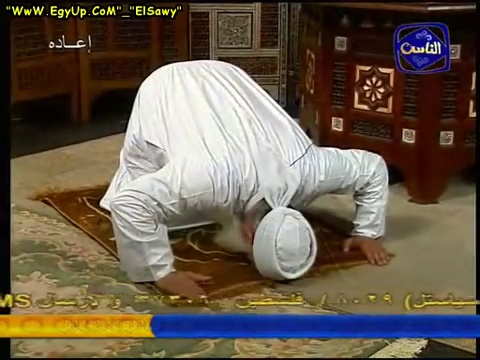sujud: (108, 59, 391, 303)
